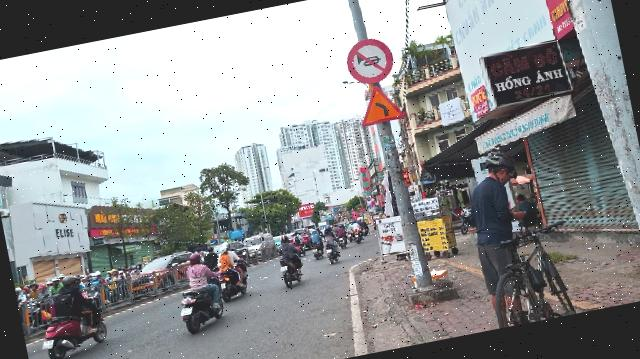cam-bop-coi: (343, 33, 397, 88)
cho-ngoat-nguy-hiem-ben-trai: (355, 80, 407, 126)
